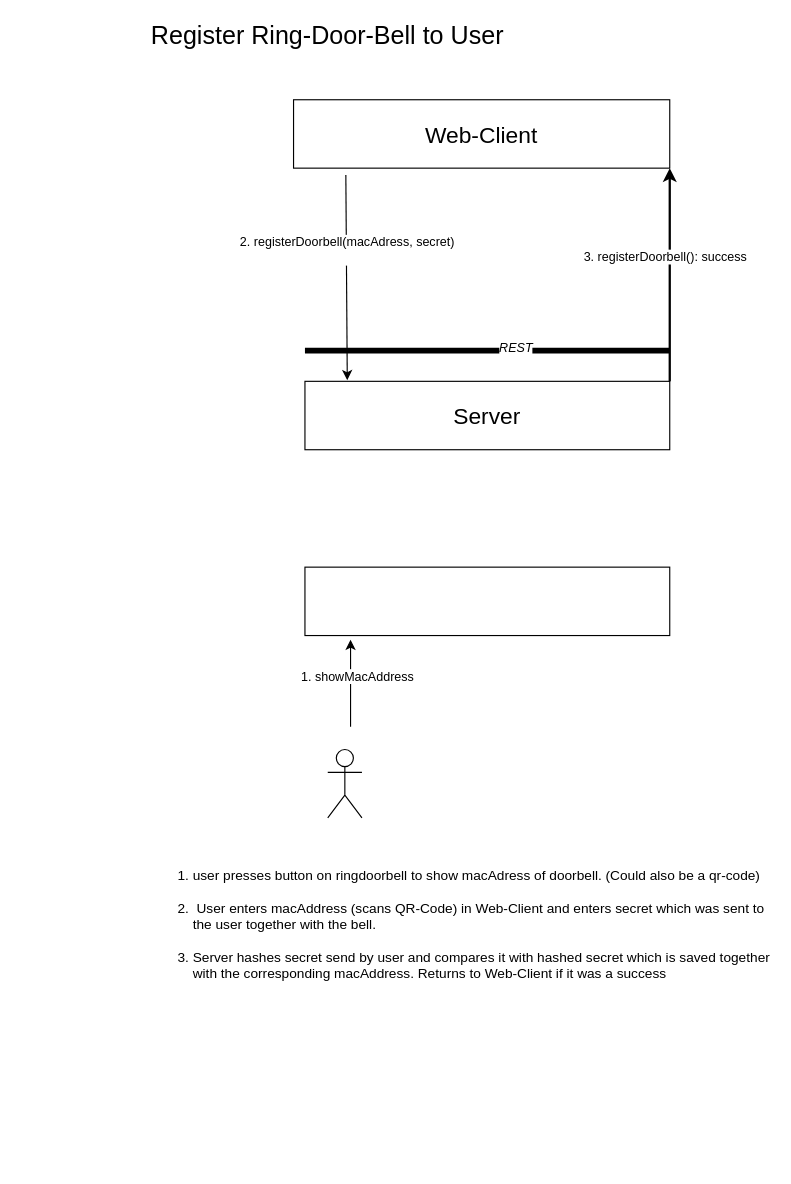
The diagram is 791 pixels wide and 1184 high, and some of its shapes have lost their labels. Here are the shapes that lost their labels. From the top down, the centre of each, then its label:
At [487,601]: "Ring-Door-Bell".
At [344,783]: "Actor".
